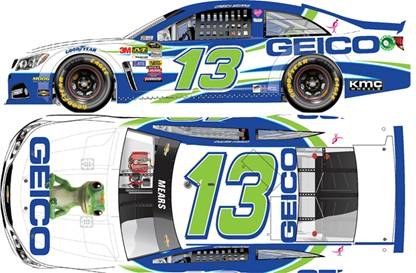Geico: (21, 131, 61, 256), (265, 33, 381, 57)
